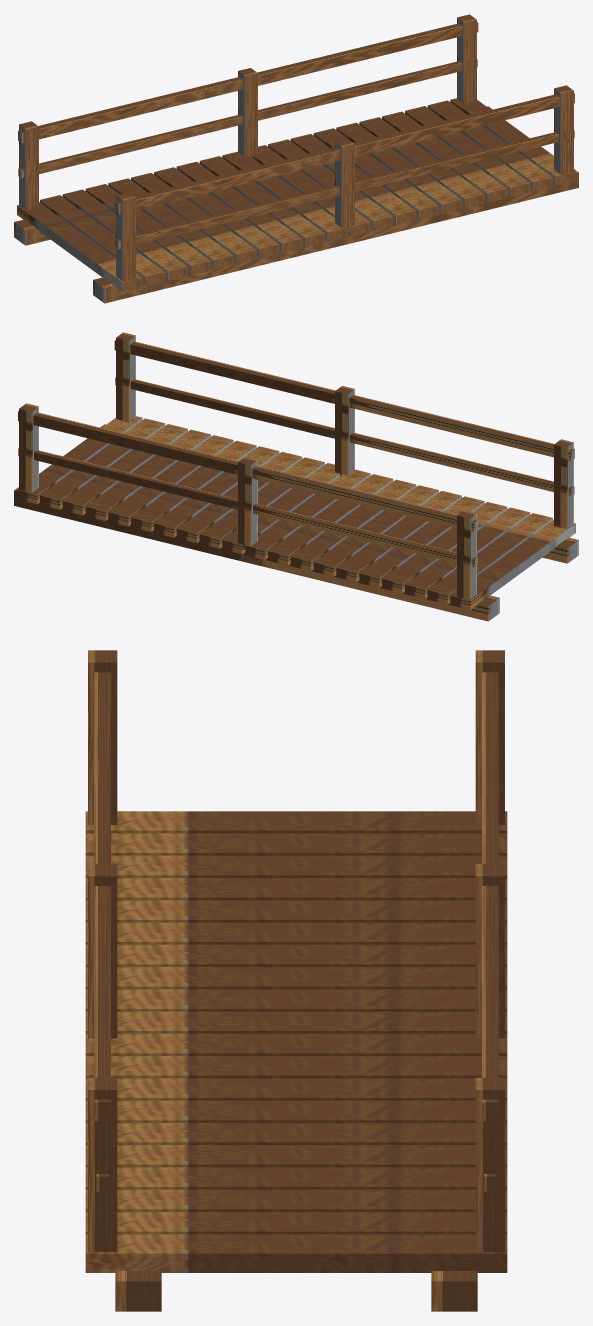
File: Pr_Bridge.glb
3 renders of one model, top to bottom at view 1: azimuth 30°, elevation 25°; view 2: azimuth 150°, elevation 25°; view 3: azimuth 270°, elevation 25°, orthographic. The views are drawn at different scales.
Visible parts, largest first — view 1: Pr_Bridge; view 2: Pr_Bridge; view 3: Pr_Bridge.
Part boxes in pixels (x1,y1,x2,y2): Pr_Bridge: (14, 14, 578, 303); Pr_Bridge: (14, 332, 578, 621); Pr_Bridge: (85, 650, 507, 1311).
Size of the model in its own units: 5.2 by 1.1 by 2.
1 material, 1 textured.
